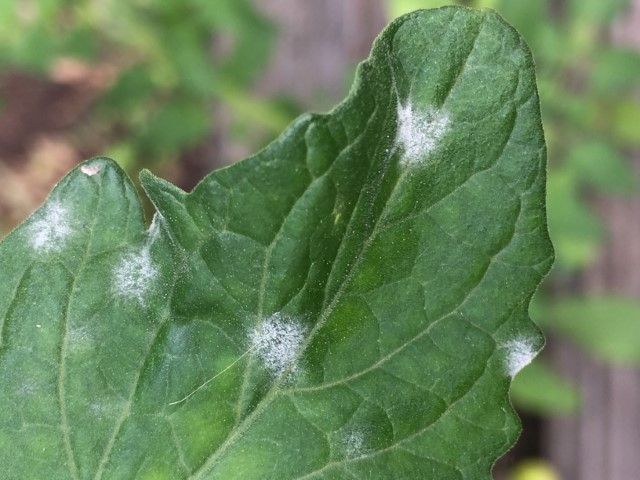oidio: (248, 314, 307, 387), (392, 98, 451, 168), (111, 247, 162, 309), (26, 195, 77, 256), (501, 331, 539, 378), (343, 426, 364, 461), (167, 327, 187, 353), (146, 214, 162, 243), (88, 399, 105, 421), (79, 162, 102, 177)
